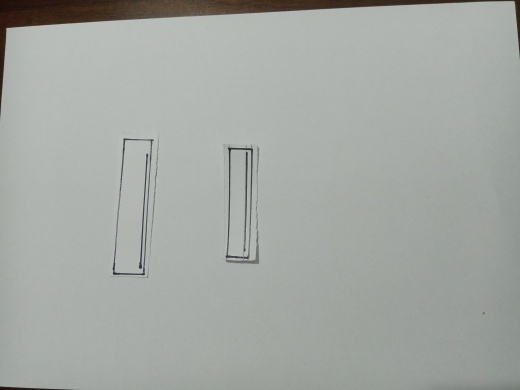text: (117, 139, 148, 274), (224, 143, 256, 261)
